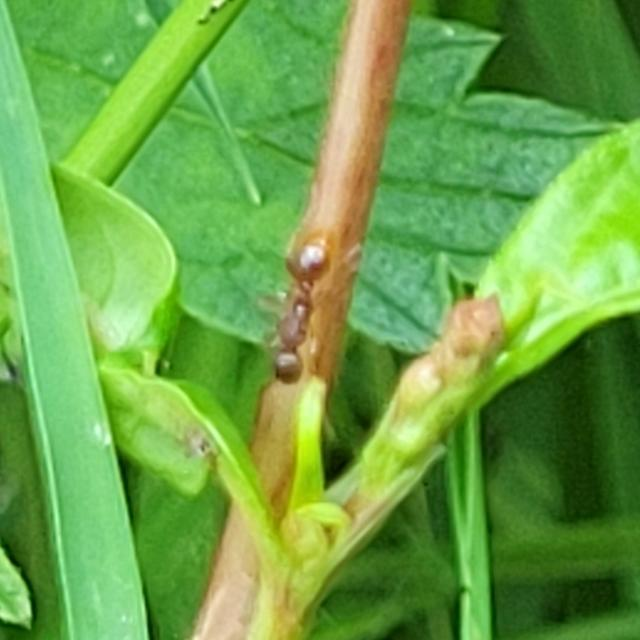Myrmica: (240, 220, 356, 406)
